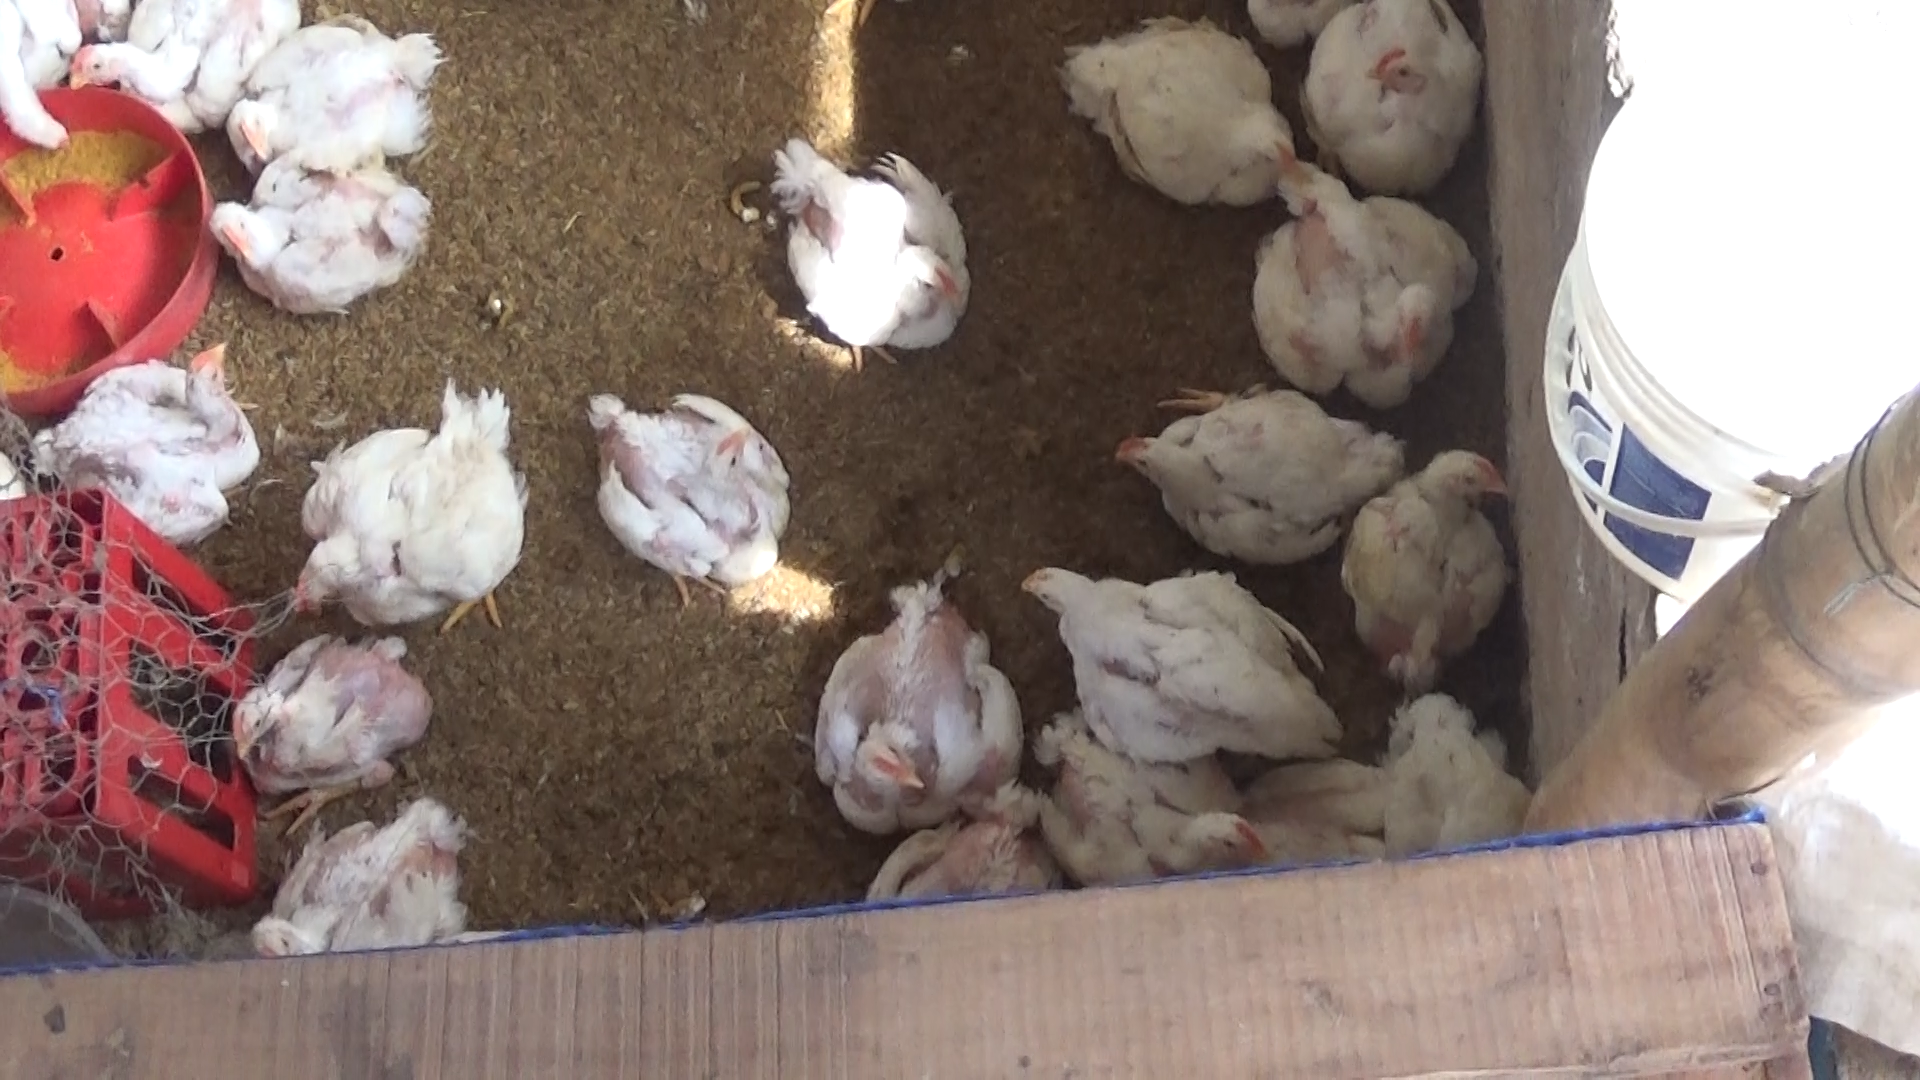Pollos: (1013, 554, 1345, 766), (274, 397, 526, 640), (814, 578, 1022, 841), (1259, 153, 1480, 402), (1051, 12, 1305, 208), (1105, 388, 1393, 556), (21, 342, 262, 535), (1338, 443, 1516, 684), (585, 392, 795, 593), (767, 153, 972, 345), (243, 794, 471, 957), (208, 157, 446, 314), (229, 633, 435, 814), (1296, 3, 1486, 196), (218, 18, 446, 169), (1029, 732, 1271, 873), (69, 0, 299, 117)
